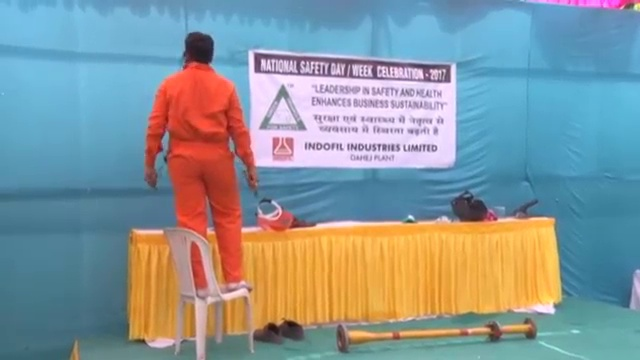helmet_off: (180, 30, 216, 66)
person: (141, 29, 255, 292)
